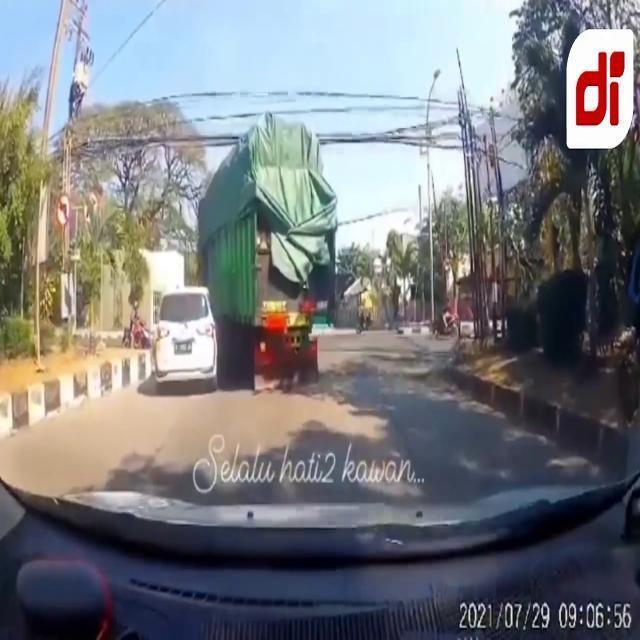accident: (150, 111, 338, 396)
